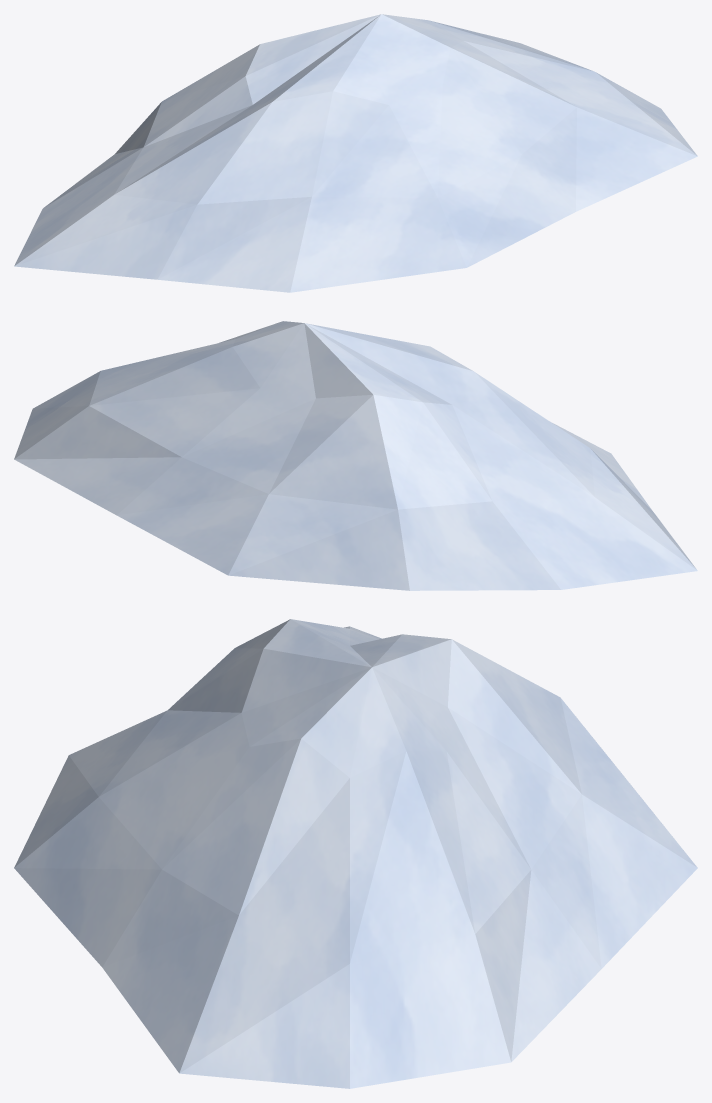
The model's file is drift_medium.glb.
3 renders of one model, top to bottom at view 1: azimuth 30°, elevation 25°; view 2: azimuth 150°, elevation 25°; view 3: azimuth 270°, elevation 25°, orthographic. The views are drawn at different scales.
Parts seen in each view (by area): view 1: winter_drift_medium; view 2: winter_drift_medium; view 3: winter_drift_medium.
Part boxes in pixels (<box>): winter_drift_medium: <box>14,14,697,292</box>; winter_drift_medium: <box>14,321,697,590</box>; winter_drift_medium: <box>14,619,697,1088</box>.
Size of the model in its own units: 2.4 by 0.55 by 1.5.
Materials: 1 (1 with a texture image).
